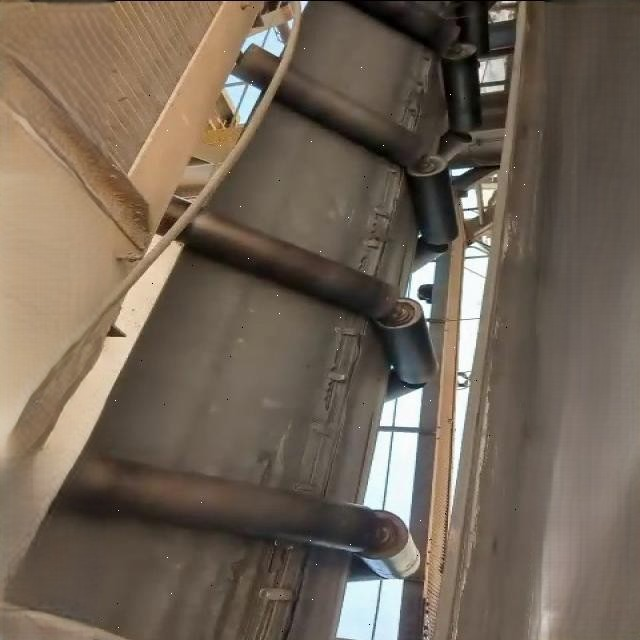Tear: (287, 308, 372, 502), (214, 535, 316, 640), (350, 154, 408, 286), (390, 36, 450, 132)
